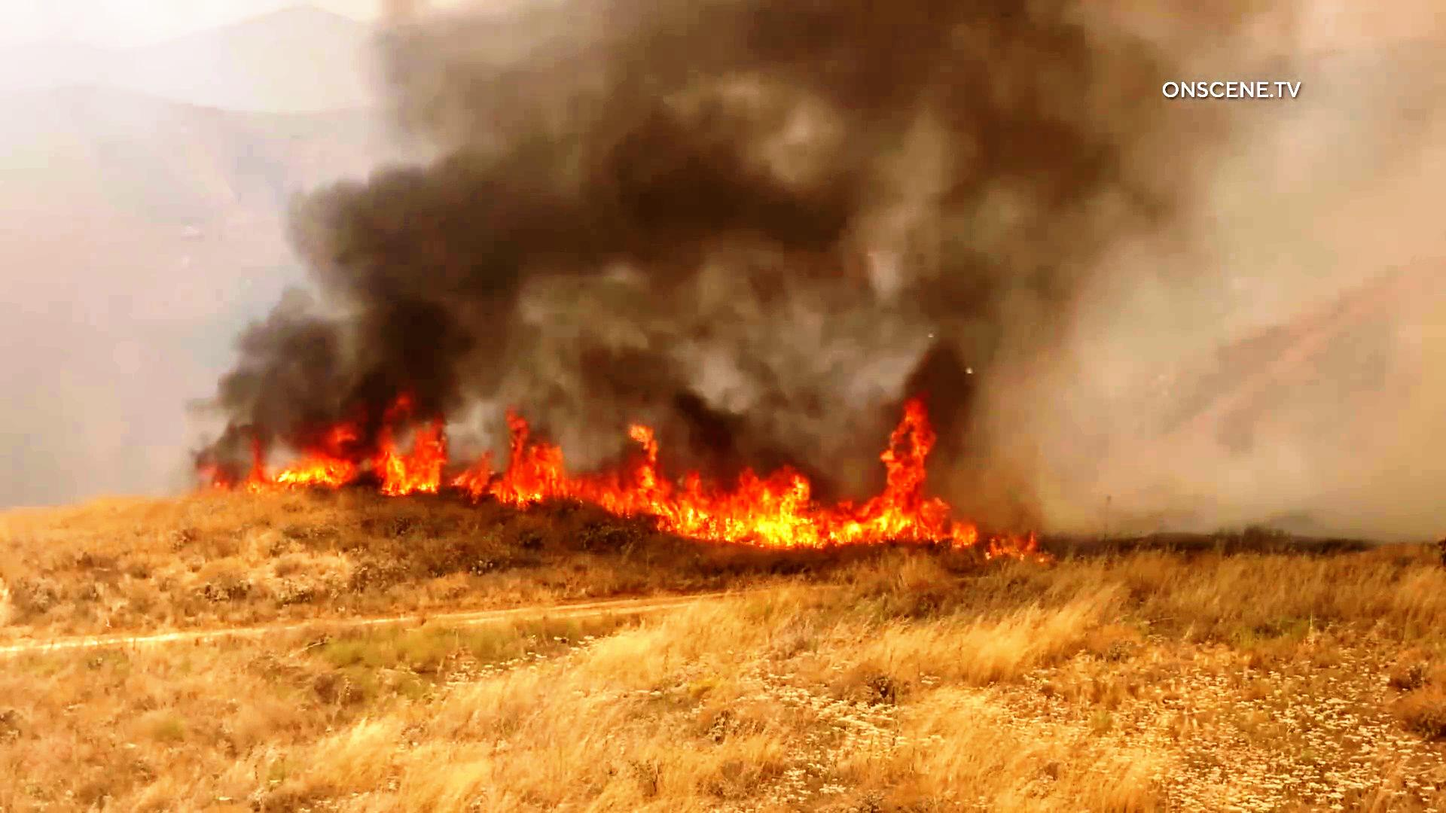fire: (223, 379, 993, 557)
smoke: (720, 55, 1070, 363), (264, 81, 563, 354)
